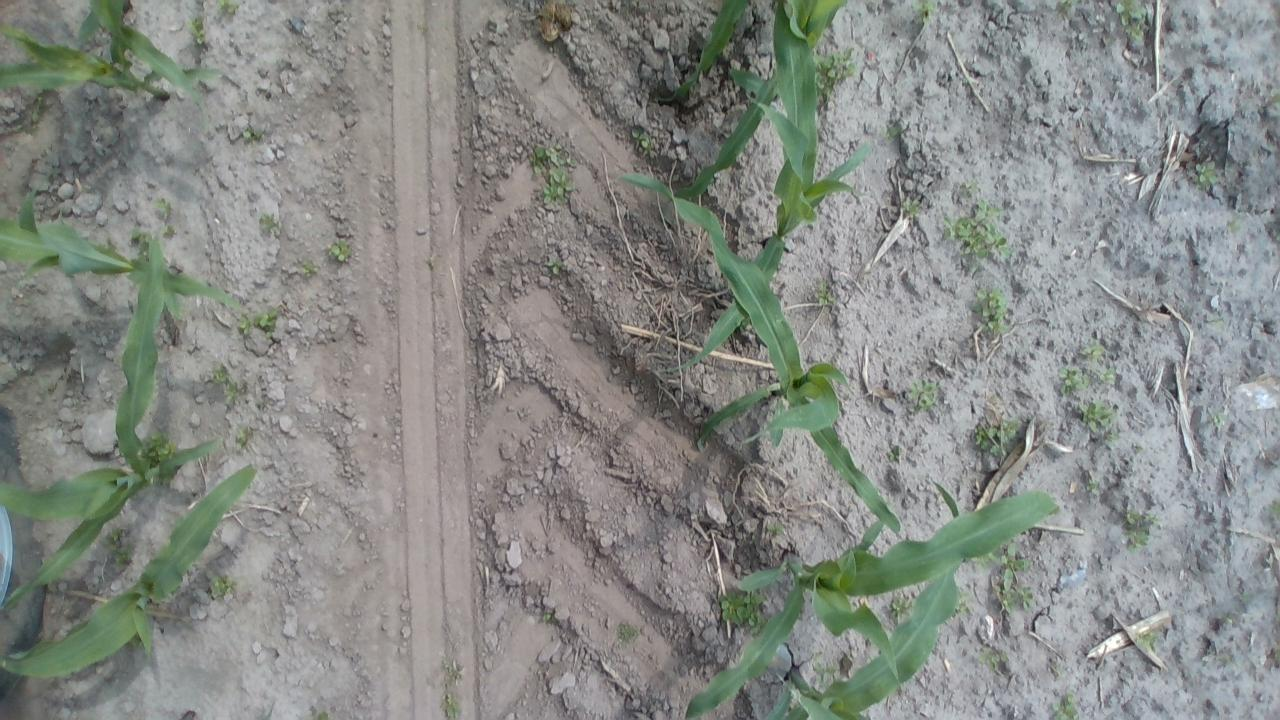Maize: (620, 175, 909, 544), (674, 496, 1074, 715), (0, 238, 224, 619), (668, 0, 872, 372), (0, 464, 264, 684), (756, 482, 959, 720), (666, 0, 848, 212), (0, 183, 244, 314), (0, 1, 229, 110), (87, 0, 209, 121)
Weeds: (940, 197, 1011, 272), (527, 140, 580, 209), (716, 588, 768, 637), (814, 48, 860, 99), (971, 284, 1010, 336), (971, 417, 1020, 458), (1078, 397, 1118, 446), (1122, 506, 1160, 554), (100, 524, 136, 570), (992, 582, 1036, 616), (1117, 1, 1150, 46), (234, 308, 280, 340), (1001, 542, 1030, 592), (906, 376, 940, 411), (138, 432, 176, 462), (1056, 365, 1090, 398), (1190, 159, 1222, 192), (206, 572, 242, 600), (811, 656, 844, 686), (976, 644, 1008, 674), (1051, 688, 1083, 718), (185, 13, 210, 49), (324, 237, 355, 265), (970, 543, 1001, 571), (438, 690, 466, 718), (128, 229, 156, 256), (1080, 340, 1110, 365), (440, 658, 467, 684), (615, 620, 641, 646), (258, 208, 282, 236), (888, 594, 912, 622), (814, 280, 836, 310), (233, 421, 254, 452), (211, 362, 236, 387), (1136, 628, 1162, 651), (632, 127, 654, 154), (915, 0, 936, 26), (241, 125, 267, 146), (952, 590, 972, 617), (899, 198, 921, 221), (222, 381, 240, 408), (764, 516, 786, 538), (958, 178, 982, 198), (215, 0, 240, 19), (292, 258, 318, 276), (1098, 364, 1116, 389), (544, 256, 566, 276), (306, 705, 337, 719), (888, 442, 904, 468), (1206, 409, 1226, 429), (154, 197, 176, 215), (1223, 216, 1242, 236), (1056, 1, 1078, 18), (882, 122, 901, 140), (1084, 476, 1100, 496), (1050, 658, 1065, 678), (1220, 611, 1237, 628), (1208, 314, 1226, 330), (160, 224, 178, 240), (1237, 588, 1253, 605), (1266, 498, 1278, 520), (541, 610, 557, 624), (1271, 87, 1280, 110), (1137, 446, 1144, 452), (1277, 235, 1280, 241)
